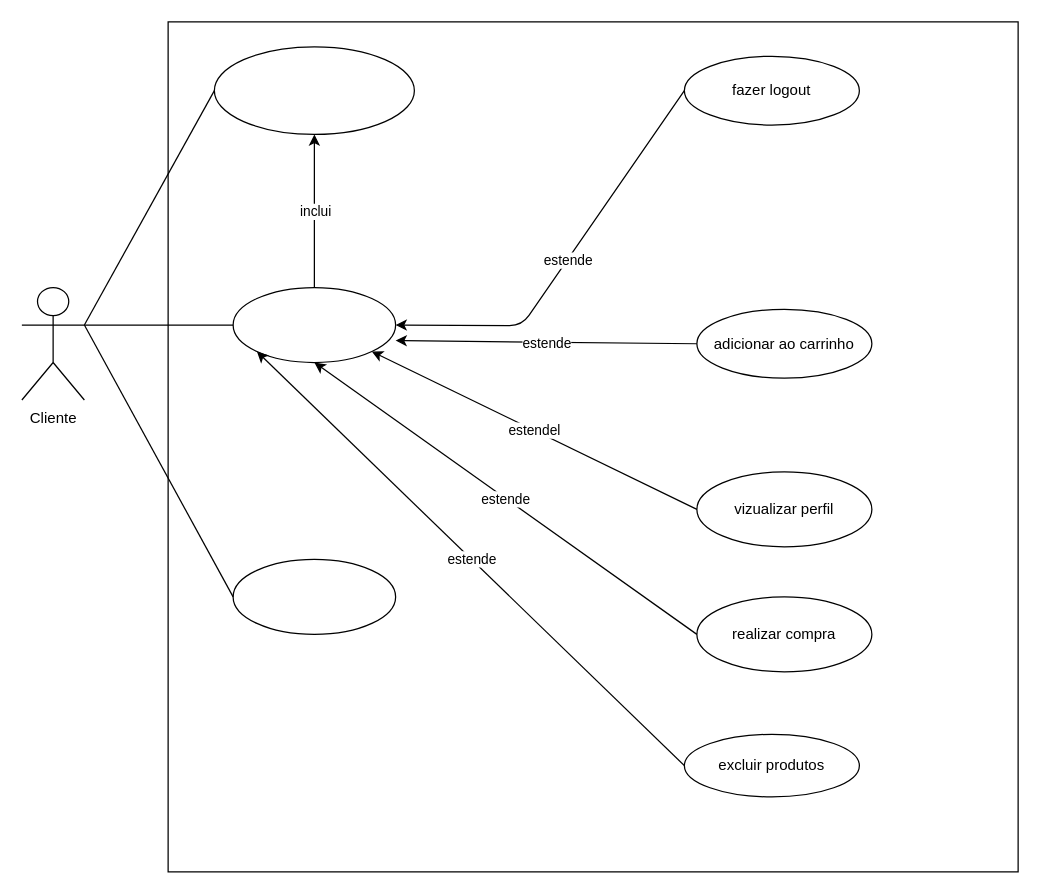
Image size: 1040x894. Some labels were removed from this diagram. The centre of each missing label's shape, as x and y in pixels:
"logar" goes at (314,324).
"pesquisar produtos" goes at (314,596).
"realizar cadastro" goes at (313,90).
